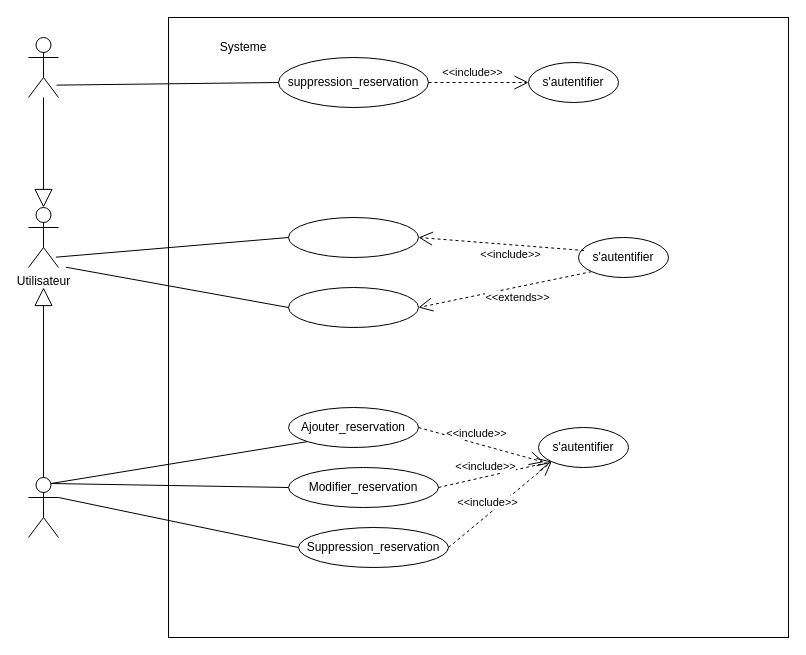
This 806x655 diagram has some shape labels left out. Each missing label, with the box of its shape:
admin: (28, 36, 58, 98)
Client: (28, 476, 58, 538)
naviguer sur le site: (288, 286, 418, 328)
s'inscrir: (288, 216, 418, 258)
